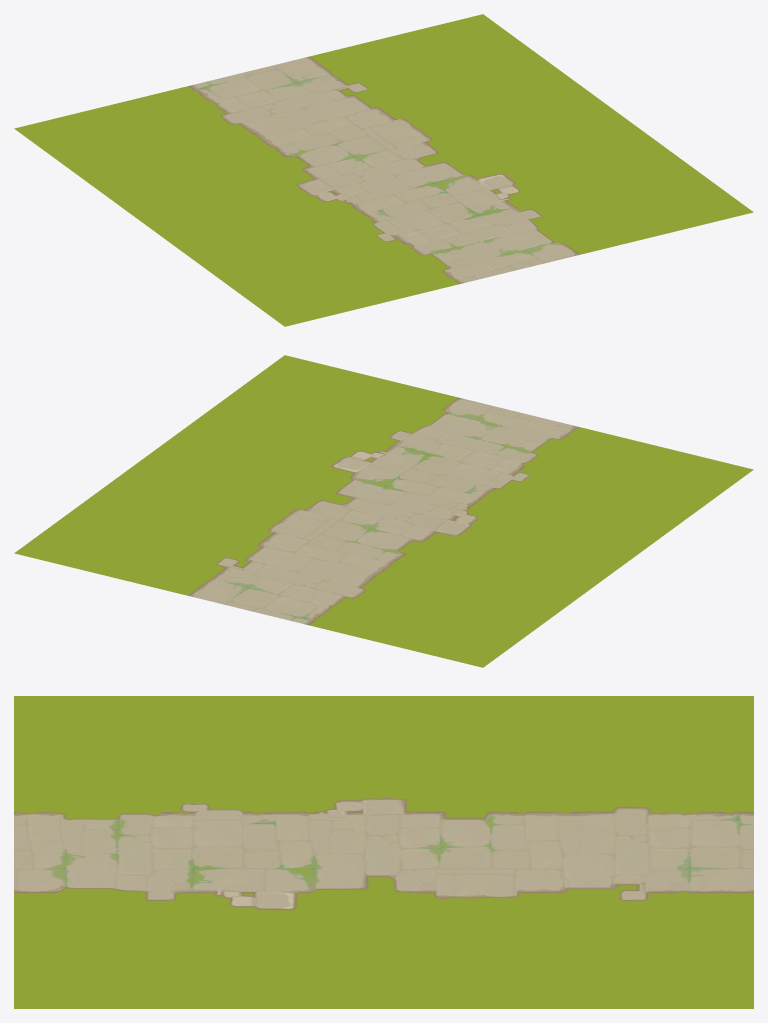
The model's file is sceneMain_ground.FBX.
3 views of the same model, one above another, from view 1: azimuth 30°, elevation 25°; view 2: azimuth 150°, elevation 25°; view 3: azimuth 270°, elevation 25° (orthographic). The views are drawn at different scales.
Parts seen in each view (by area): view 1: sceneMain_ground; view 2: sceneMain_ground; view 3: sceneMain_ground.
Part boxes in pixels (<box>): sceneMain_ground: <box>14,14,753,326</box>; sceneMain_ground: <box>14,355,753,667</box>; sceneMain_ground: <box>14,696,753,1008</box>.
Size of the model in its own units: 1000 by 4.37e-05 by 1000.
1 material, 1 textured.
